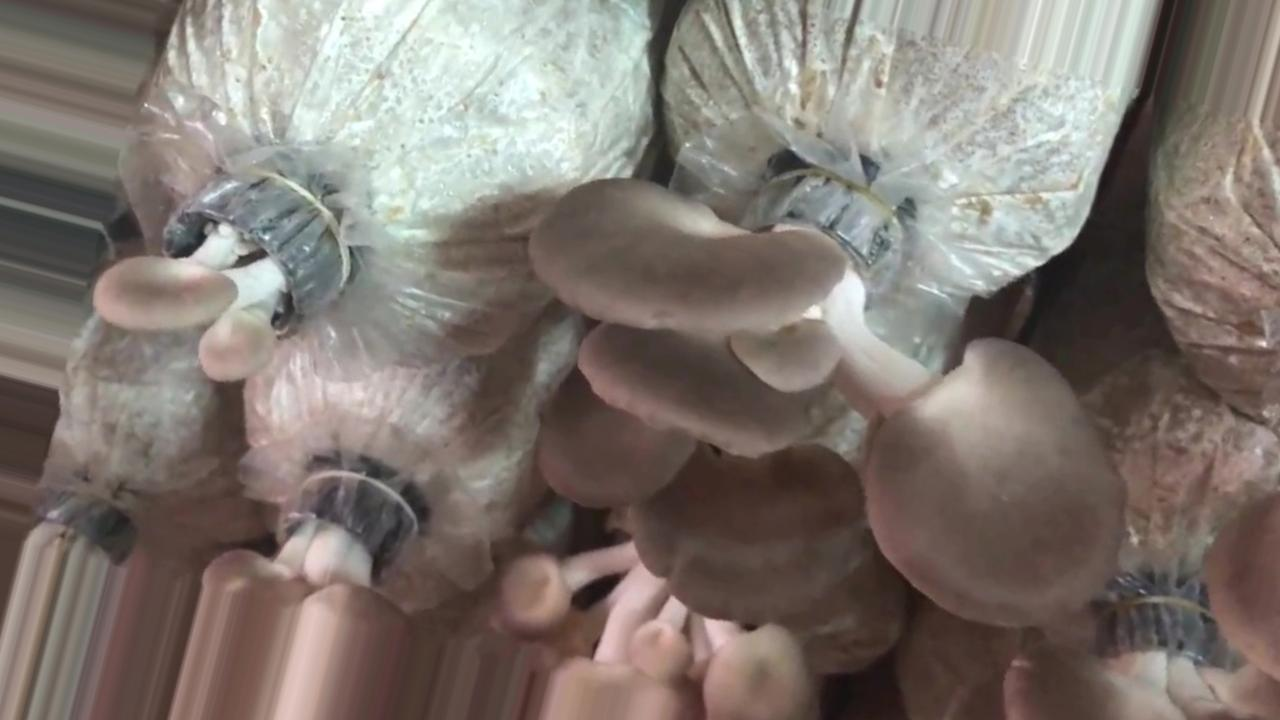nam: (543, 181, 1125, 621), (173, 478, 417, 720), (95, 162, 361, 378), (503, 545, 810, 720)
